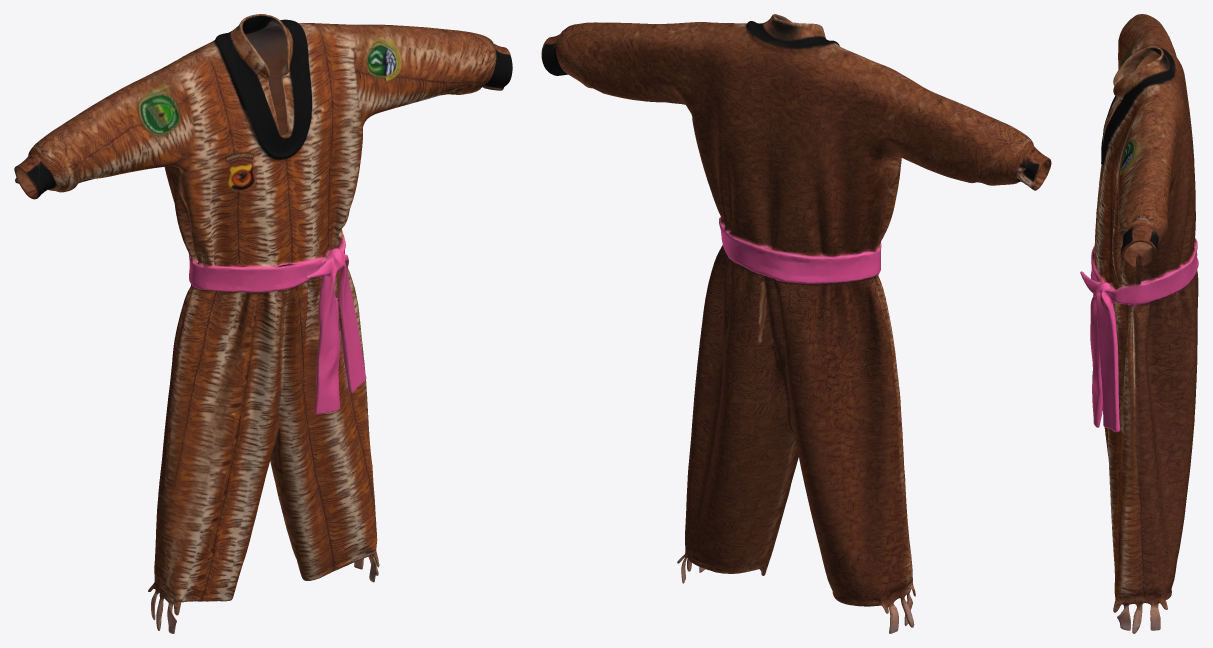
File: baju seragam.glb
3 views of the same model, side by side, from view 1: azimuth 30°, elevation 25°; view 2: azimuth 150°, elevation 25°; view 3: azimuth 270°, elevation 25° (orthographic). The views are drawn at different scales.
Parts seen in each view (by area): view 1: mesh_node; view 2: mesh_node; view 3: mesh_node.
Boxes of the visible parts, bbox=[...] form: mesh_node: bbox=[14, 14, 512, 633]; mesh_node: bbox=[541, 14, 1051, 633]; mesh_node: bbox=[1080, 14, 1198, 633].
Bounding box in the file's own units: 1.67 × 1.9 × 0.38.
1 material, 1 textured.
